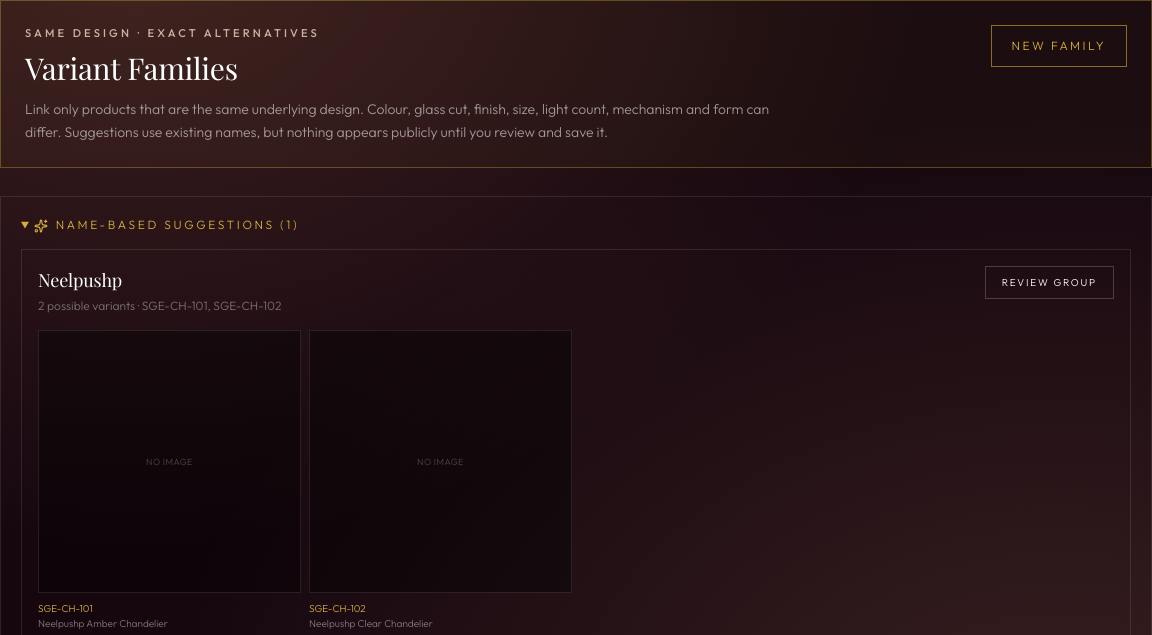
Scenario: shows saved memberships and updates labels immediately after saving
The width and height of the screenshot is (1152, 635).
Click the button "Review group" at (1049, 283), box [985,266,1114,300]
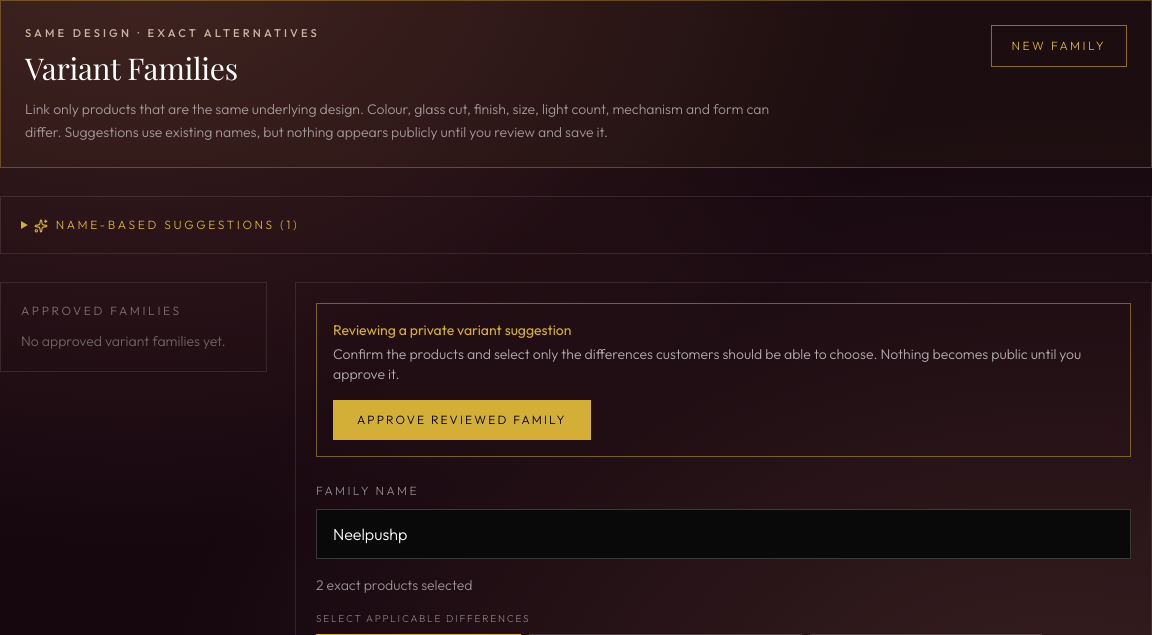
Click the button "Approve reviewed family" at (462, 420), box [333,400,591,440]
(page scrolled)
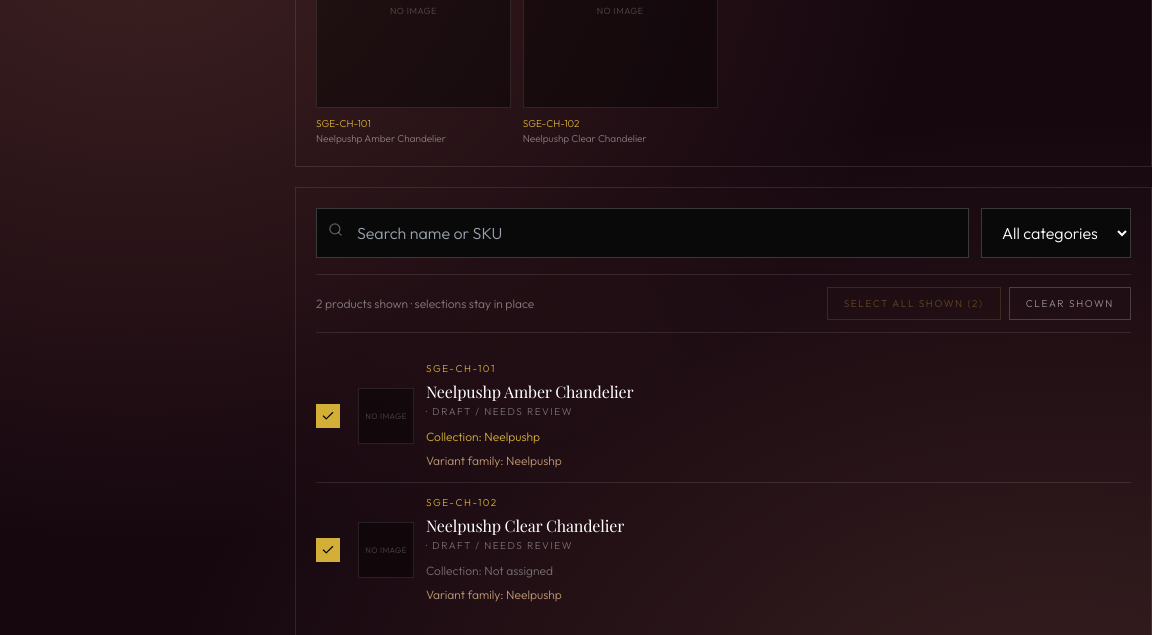
Now the button with test id "variant-product-SGE-CH-101" shows "Variant family: Neelpushp", box [316,349,1131,482]
